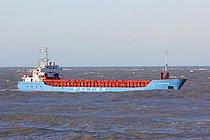Ship: (17, 38, 190, 96)
